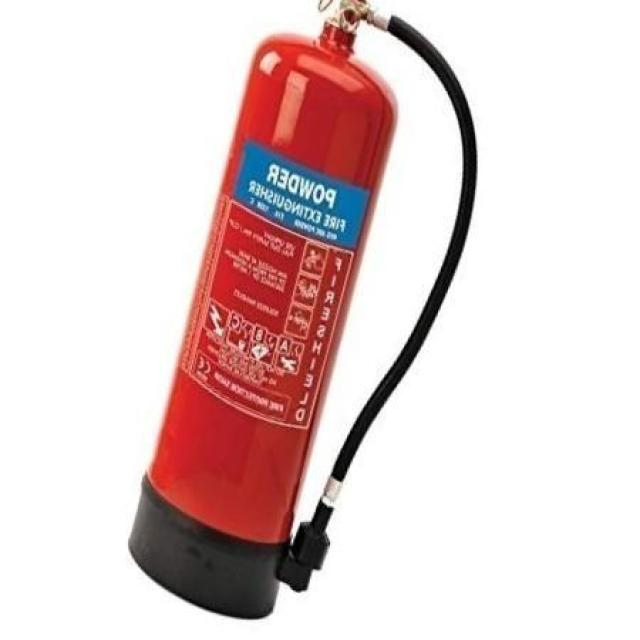fire_extinguisher: (121, 0, 482, 623)
